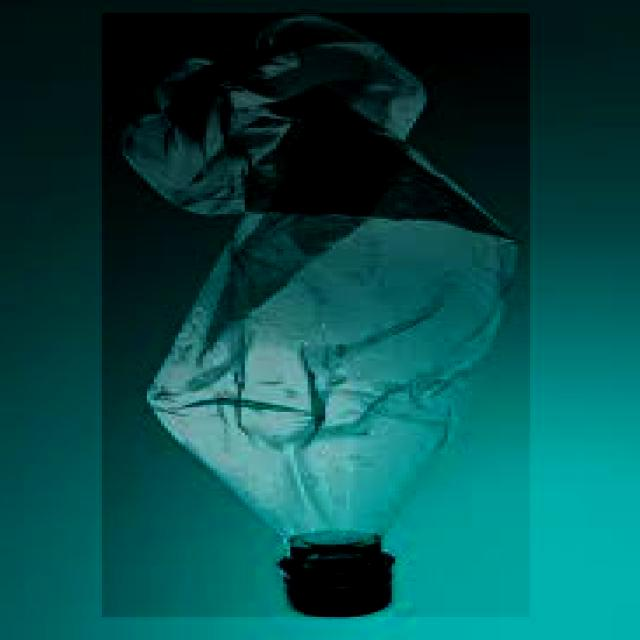bottle: (102, 13, 530, 617)
